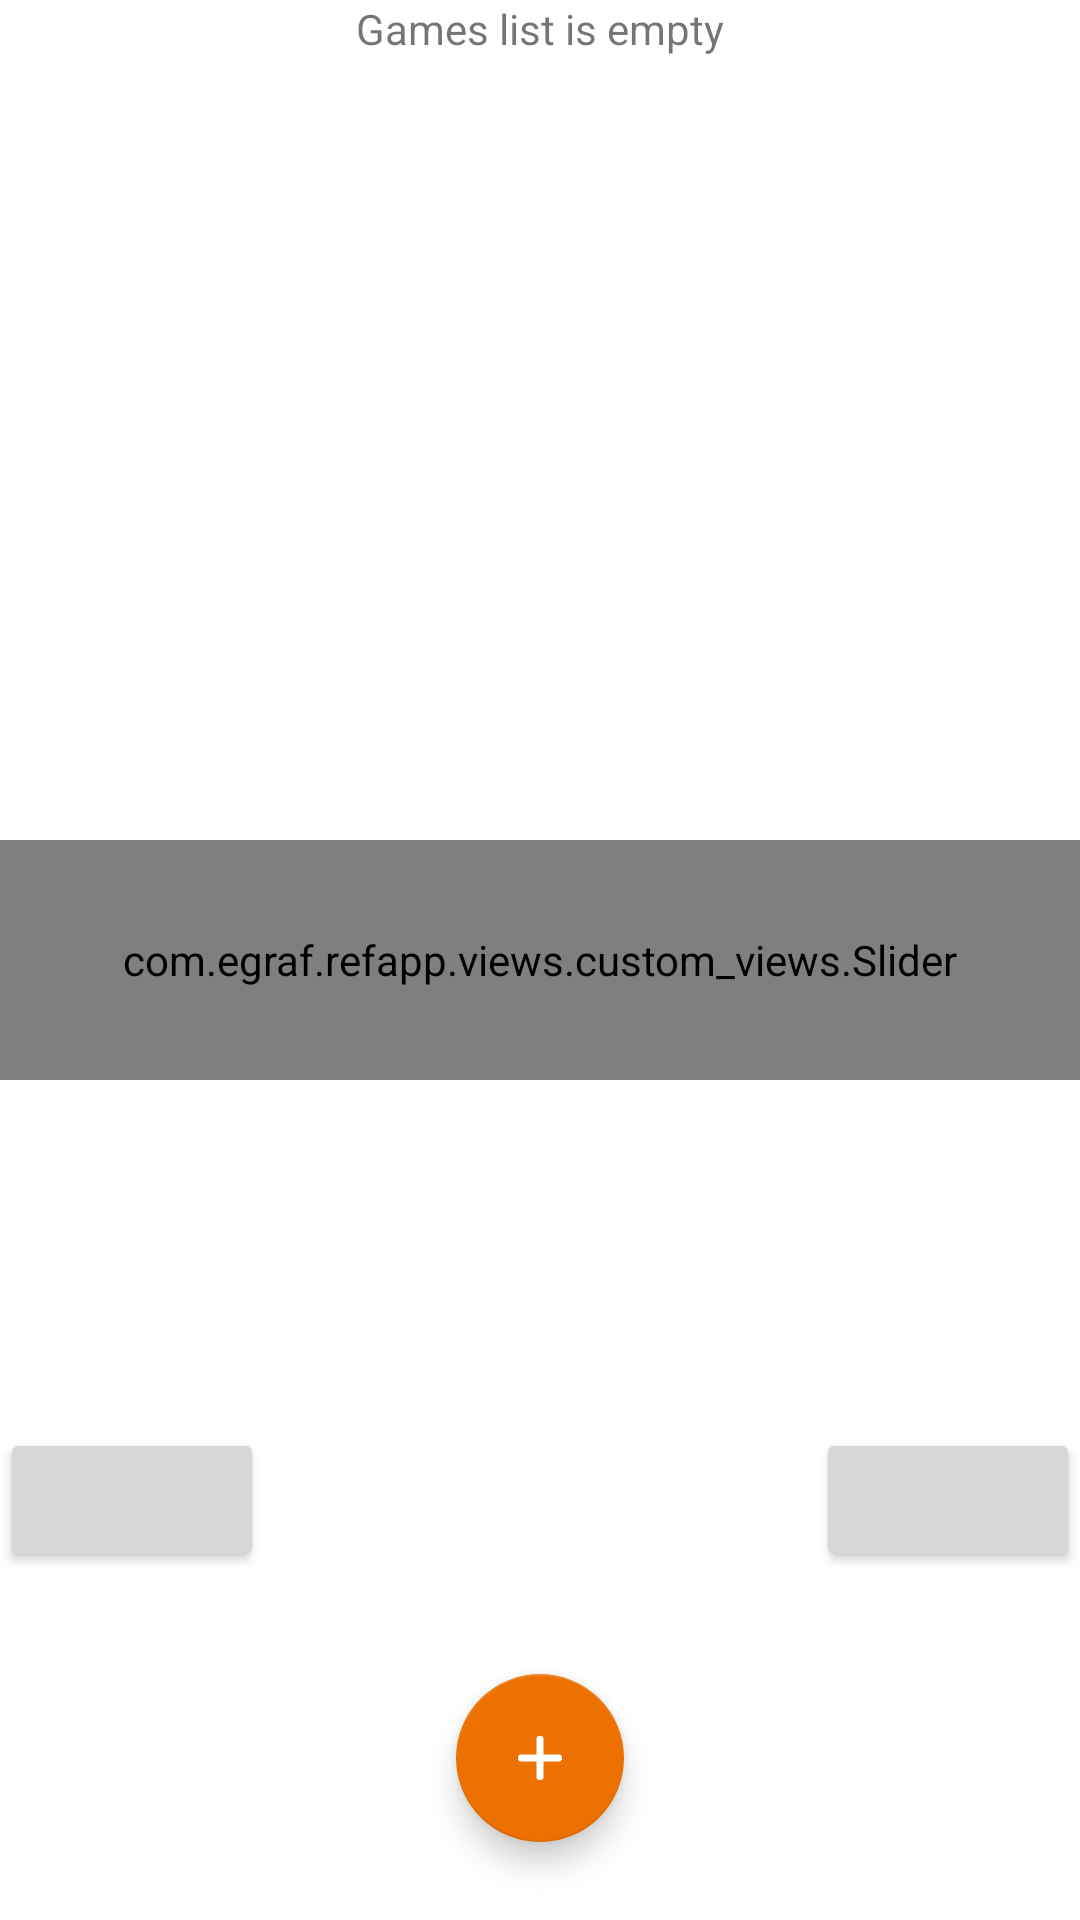

Where icons sit on this 1080px×1920px app screen, as (x1, y1, x2, y2):
Add new Game: (456, 1674, 624, 1842)
